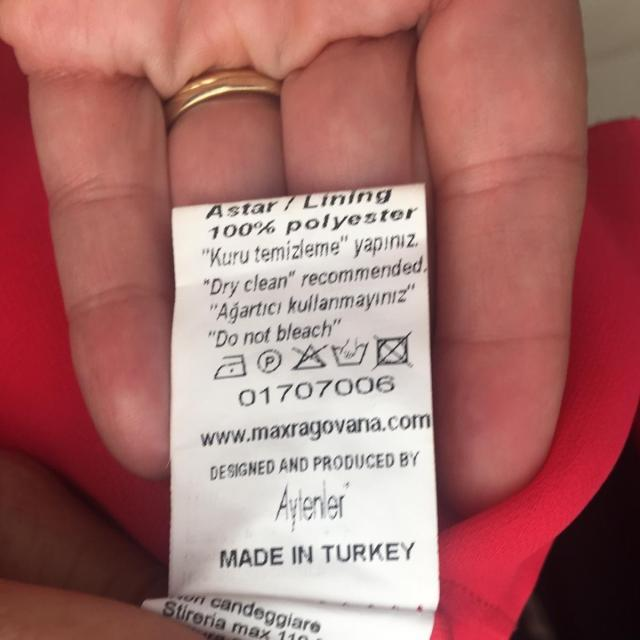DN_bleach: (292, 342, 328, 373)
DN_tumble_dry: (373, 330, 415, 371)
dry_clean_any_solvent_except_trichloroethylene: (257, 345, 284, 375)
hand_wash: (330, 336, 371, 369)
iron_low: (214, 351, 247, 380)
